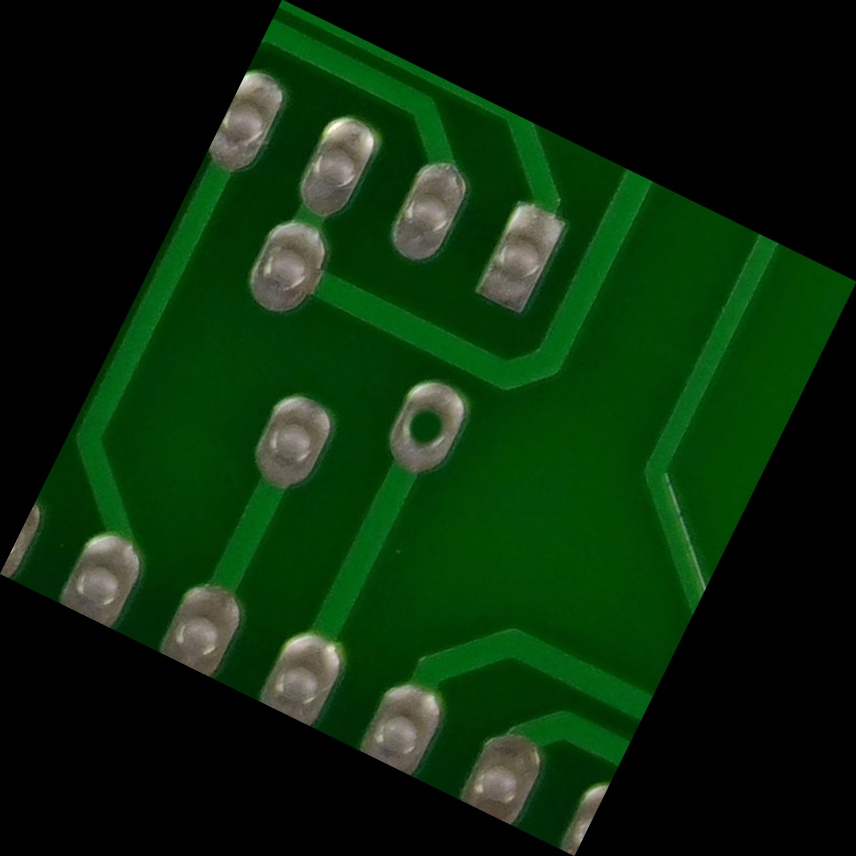missing_hole: (370, 376, 481, 486)
